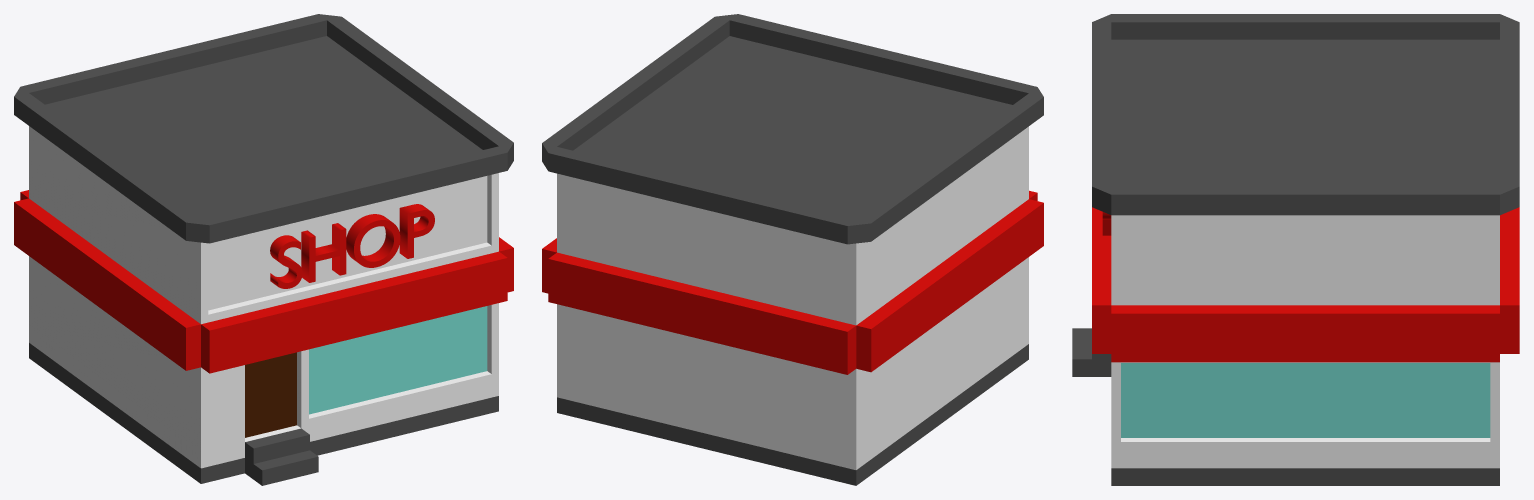
The model's file is shop.fbx.
3 views of the same model, side by side, from view 1: azimuth 30°, elevation 25°; view 2: azimuth 150°, elevation 25°; view 3: azimuth 270°, elevation 25° (orthographic). The views are drawn at different scales.
Visible parts, largest first — view 1: Cube.002, Text_Text.002; view 2: Cube.002; view 3: Cube.002.
Boxes of the visible parts, box(x1,y1,x2,y2) form: Cube.002: box(14, 14, 513, 485); Text_Text.002: box(270, 204, 434, 288); Cube.002: box(542, 14, 1043, 485); Cube.002: box(1072, 14, 1519, 485).
Size of the model in its own units: 2200 by 1700 by 2300.
